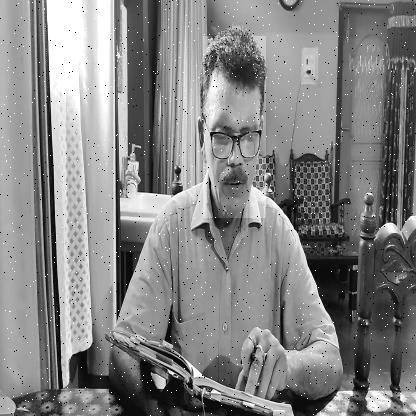Normal: (203, 36, 266, 218)
